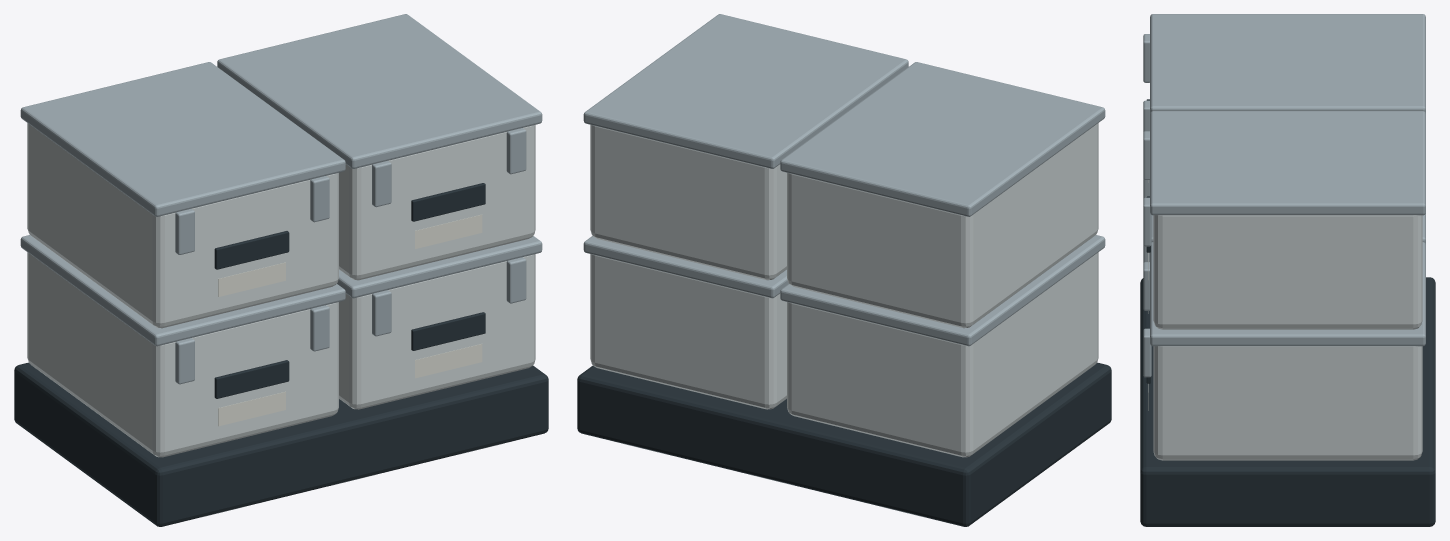
The model's file is RD_SealedSupplyCrates.fbx.
3 renders of one model, left to right at view 1: azimuth 30°, elevation 25°; view 2: azimuth 150°, elevation 25°; view 3: azimuth 270°, elevation 25°, orthographic.
Parts seen in each view (by area): view 1: RD_SealedSupplyCrates; view 2: RD_SealedSupplyCrates; view 3: RD_SealedSupplyCrates.
Part boxes in pixels (x1=…): RD_SealedSupplyCrates: x1=14, y1=14, x2=548, y2=526; RD_SealedSupplyCrates: x1=577, y1=14, x2=1111, y2=526; RD_SealedSupplyCrates: x1=1140, y1=14, x2=1435, y2=526.
Bounding box in the file's own units: 140 × 109 × 90.
